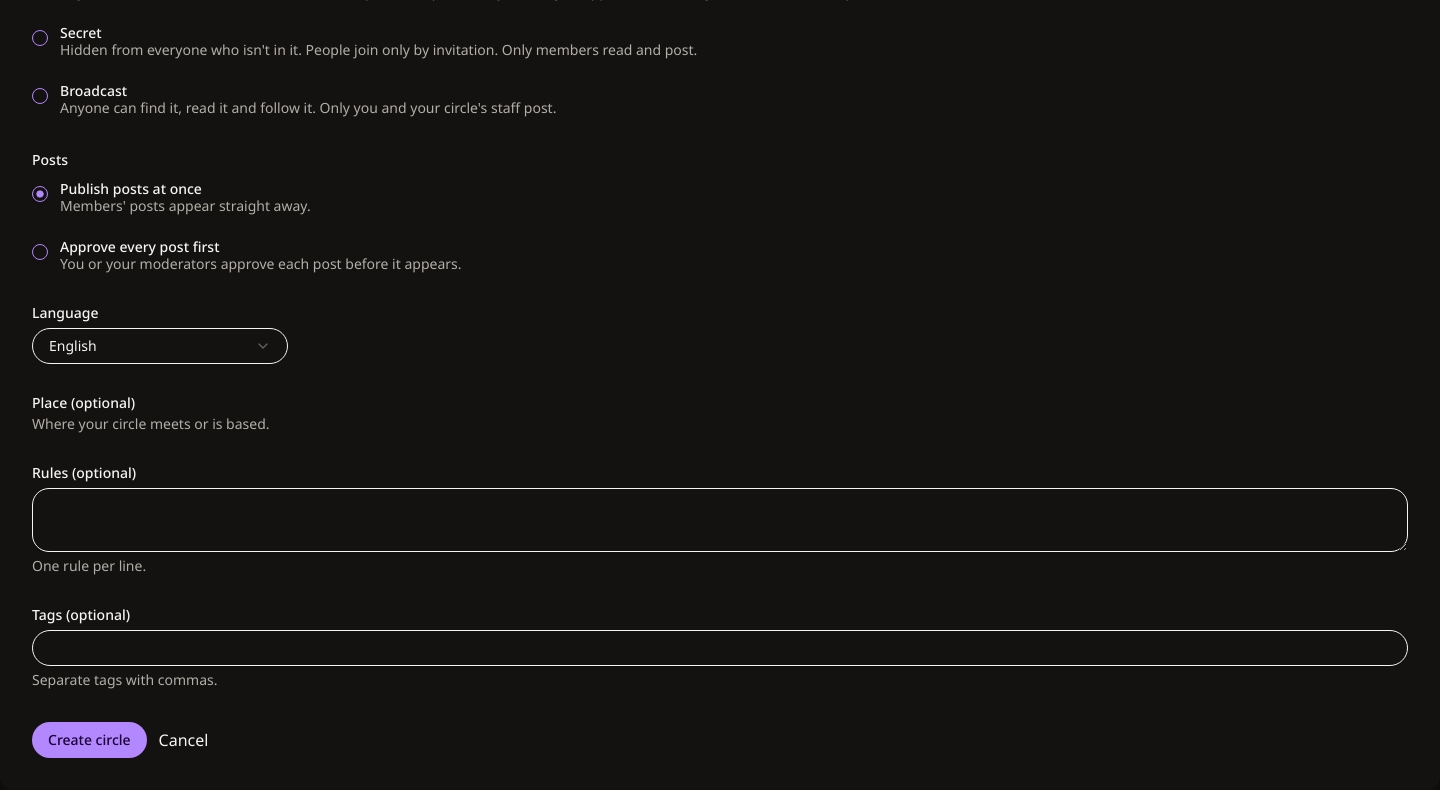
Test case: CreateCircleForm › checks the fields before sending
This screenshot has width=1440, height=790.
(page scrolled)
Click the button "Create circle" at (89, 740), box [32,722,147,758]
(page scrolled)
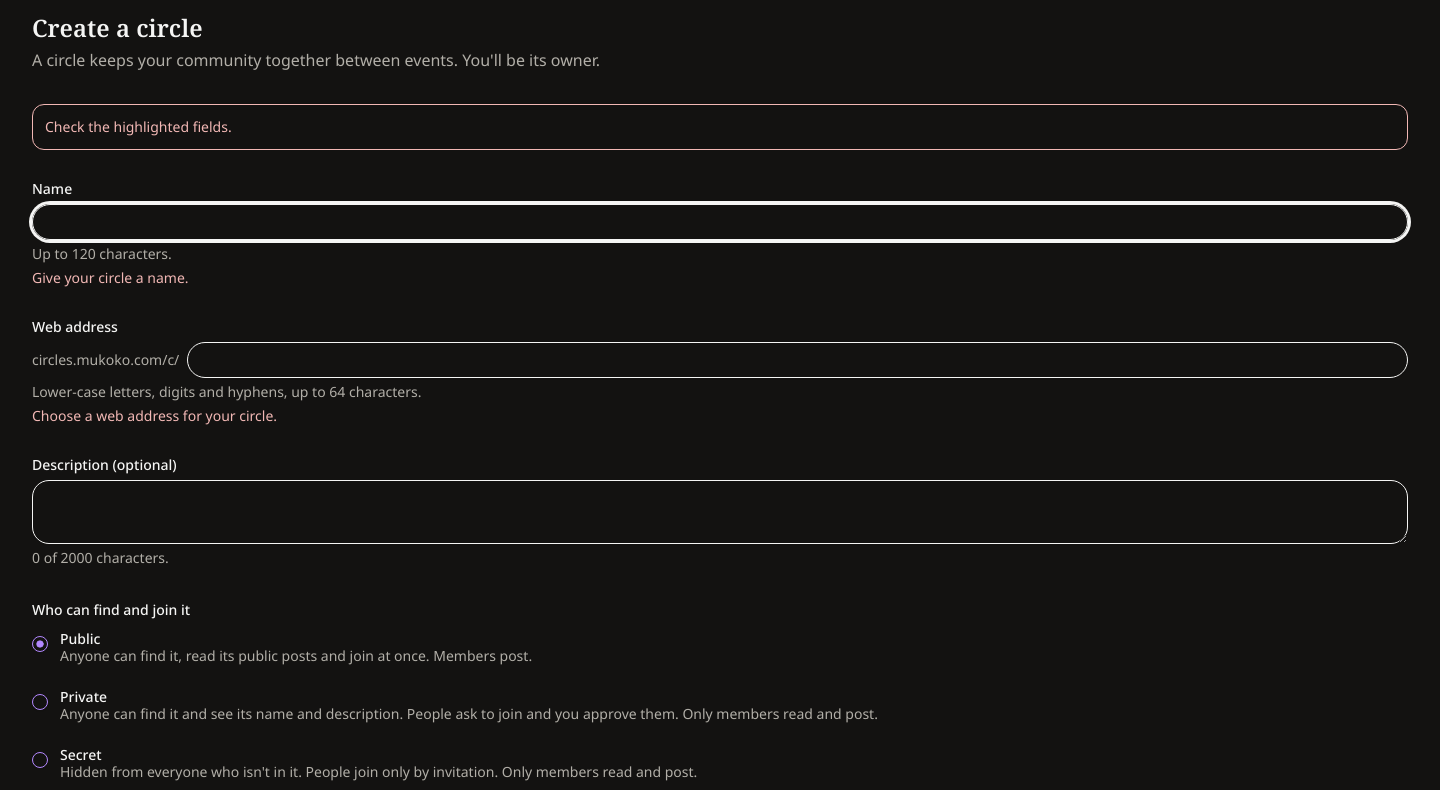
Now the message reads "Check the highlighted fields.", box [45,117,232,136]
Now the text "Give your circle a name." is shown, box [32,268,189,287]
